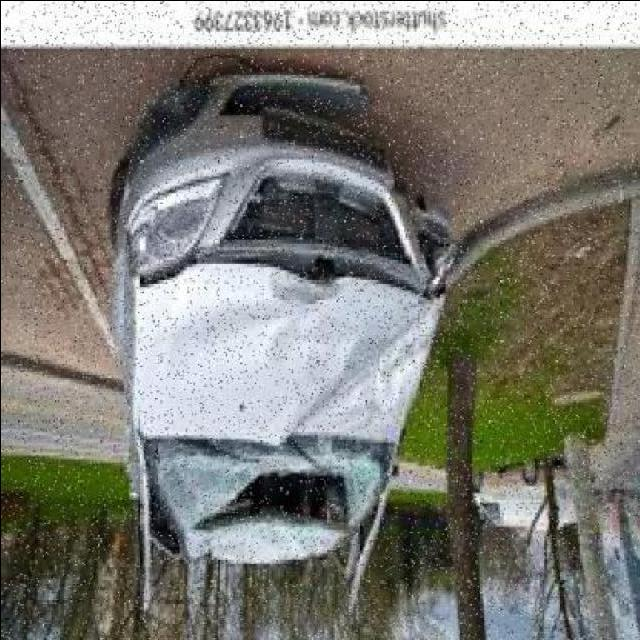Front-Windscreen-Damage: (139, 439, 398, 567)
bonnet-dent: (122, 253, 446, 442)
front-bumper-dent: (117, 75, 451, 254)
